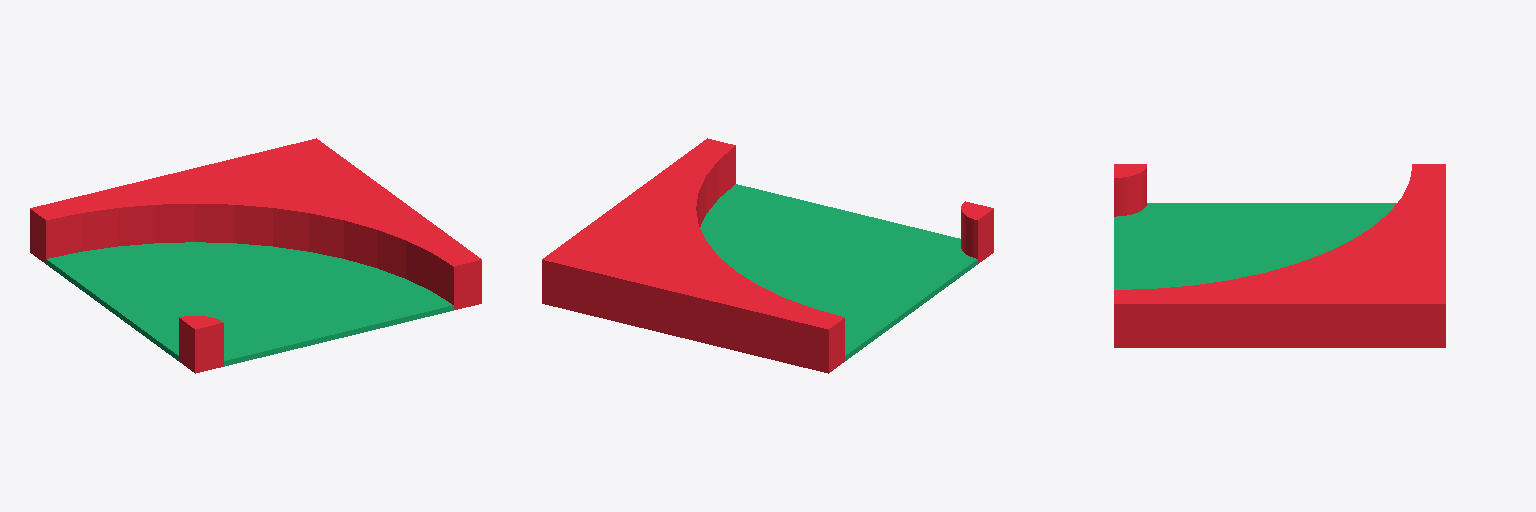
File: roundCornerB_edit.obj
The picture shows the model from 3 angles: view 1: azimuth 30°, elevation 25°; view 2: azimuth 150°, elevation 25°; view 3: azimuth 270°, elevation 25°; orthographic projection.
Parts seen in each view (by area): view 1: roundCornerB.002; view 2: roundCornerB.002; view 3: roundCornerB.002.
Boxes of the visible parts, box(x1,y1,x2,y2) form: roundCornerB.002: box(30, 138, 481, 373); roundCornerB.002: box(542, 138, 993, 373); roundCornerB.002: box(1114, 164, 1445, 347).
Size of the model in its own units: 0.9999 by 0.1467 by 0.9999.